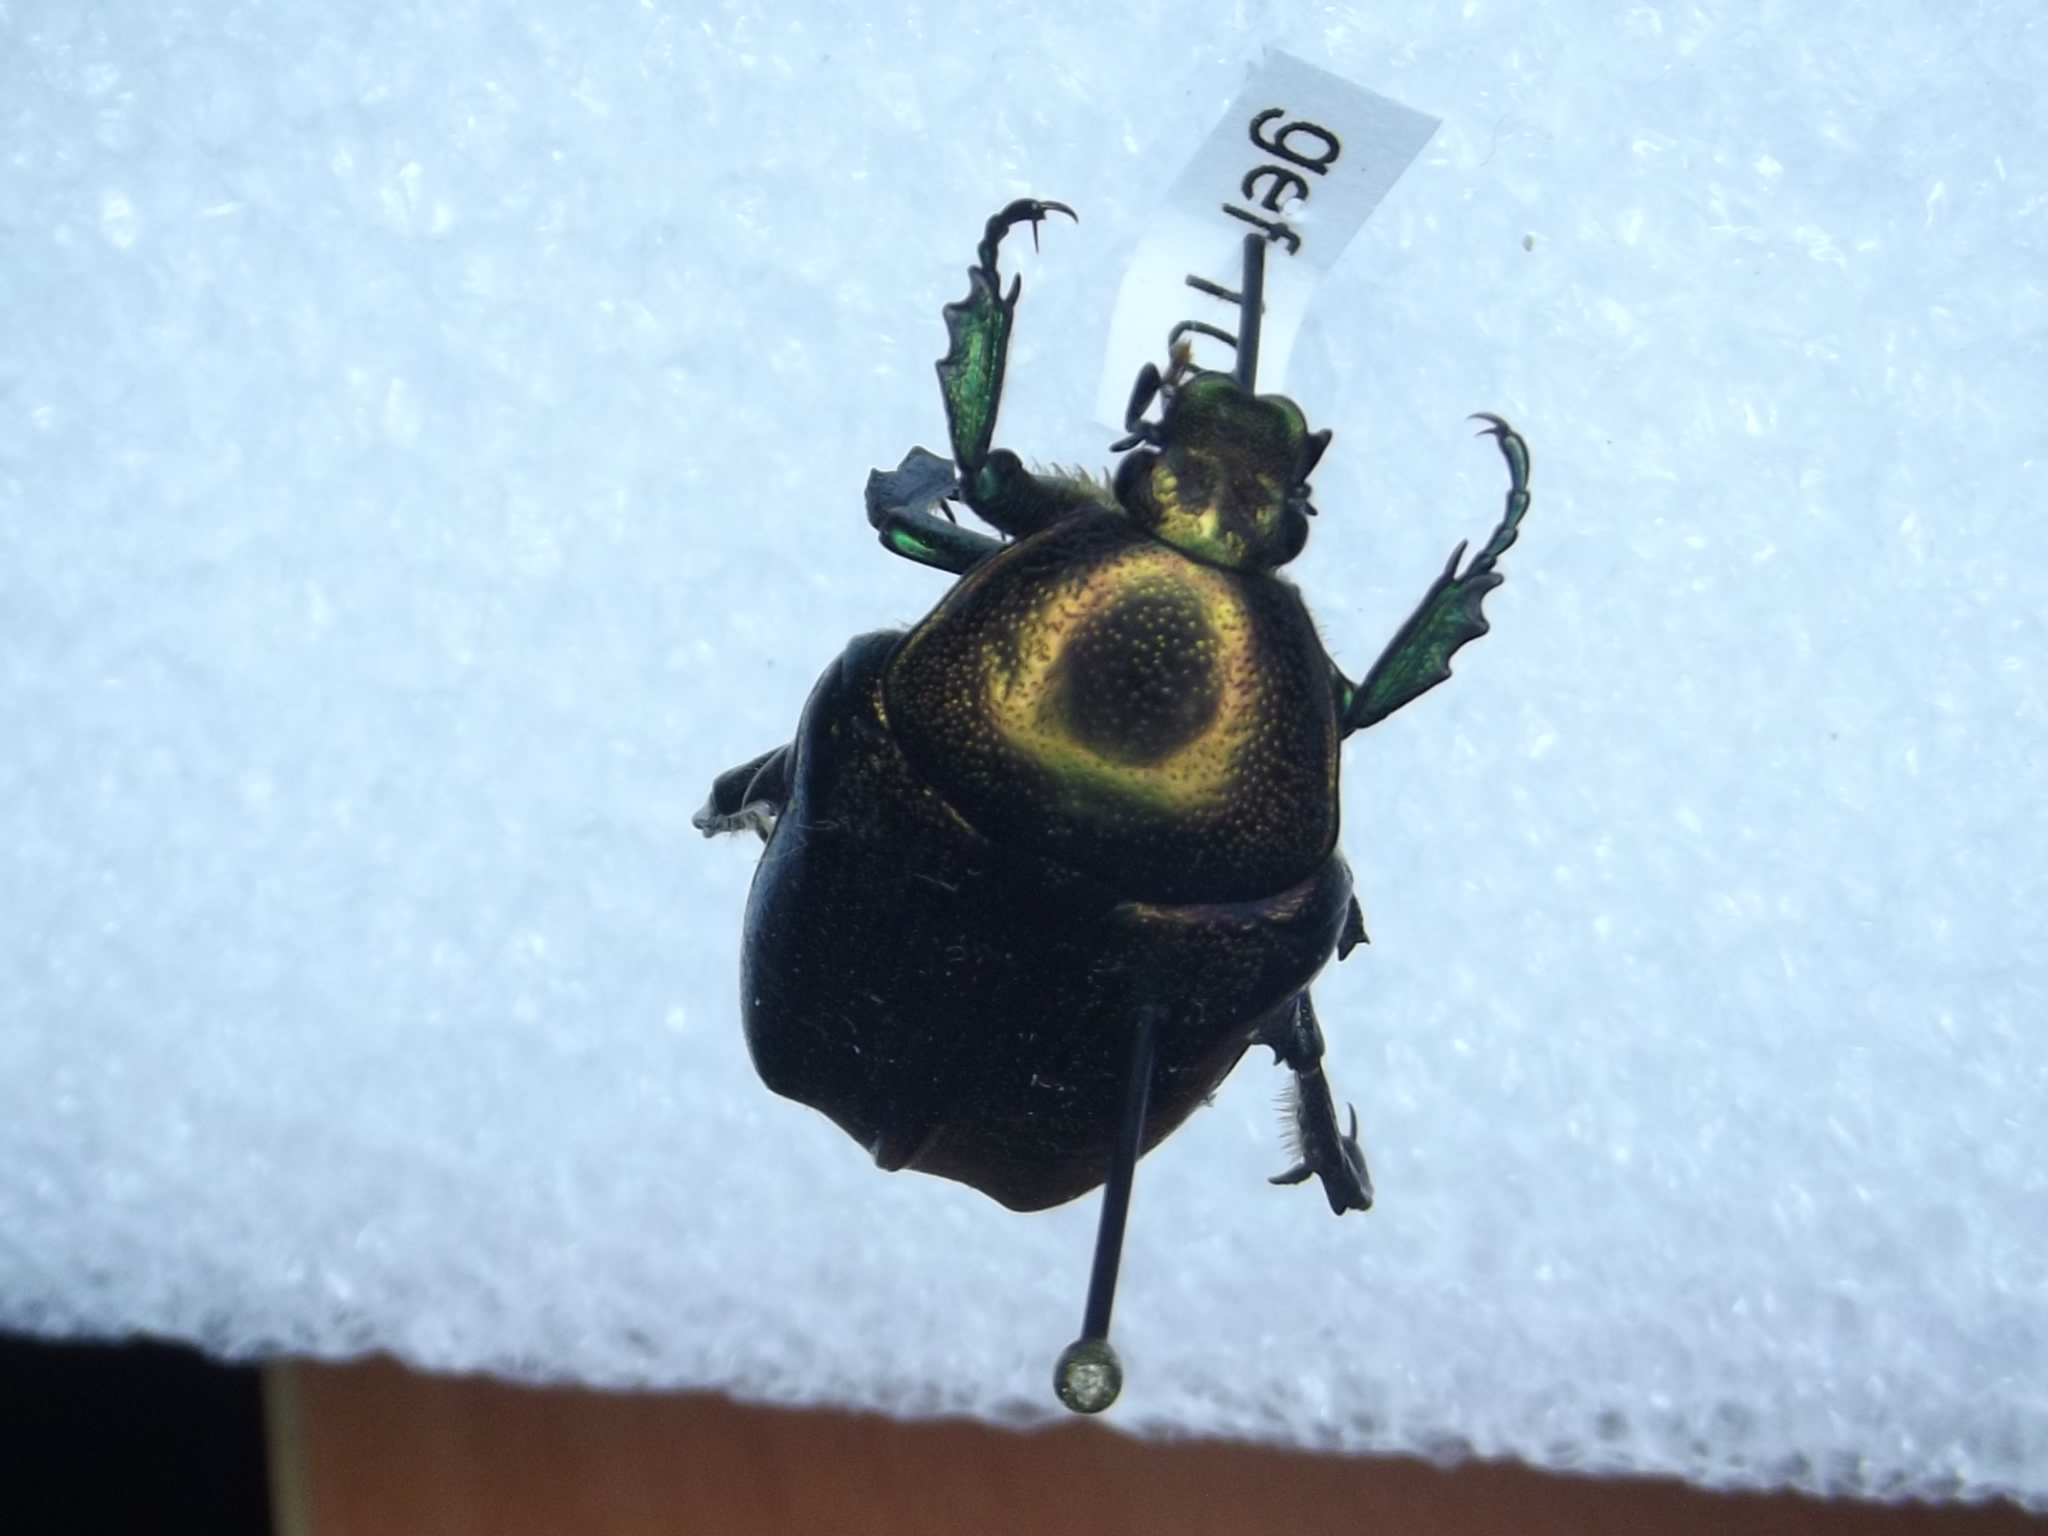Cetonia_aurata: (674, 173, 1529, 1234)
